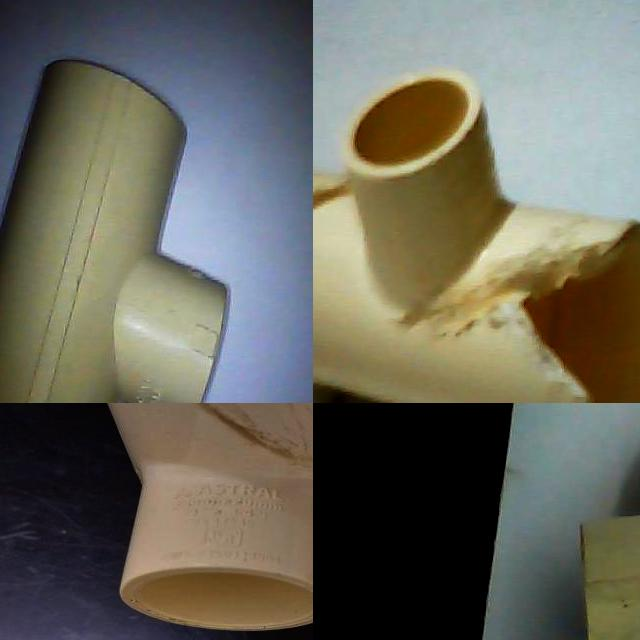Defective: (472, 254, 625, 403), (190, 403, 313, 475), (313, 180, 344, 232)
T Joint: (313, 70, 640, 403), (0, 59, 231, 403)
